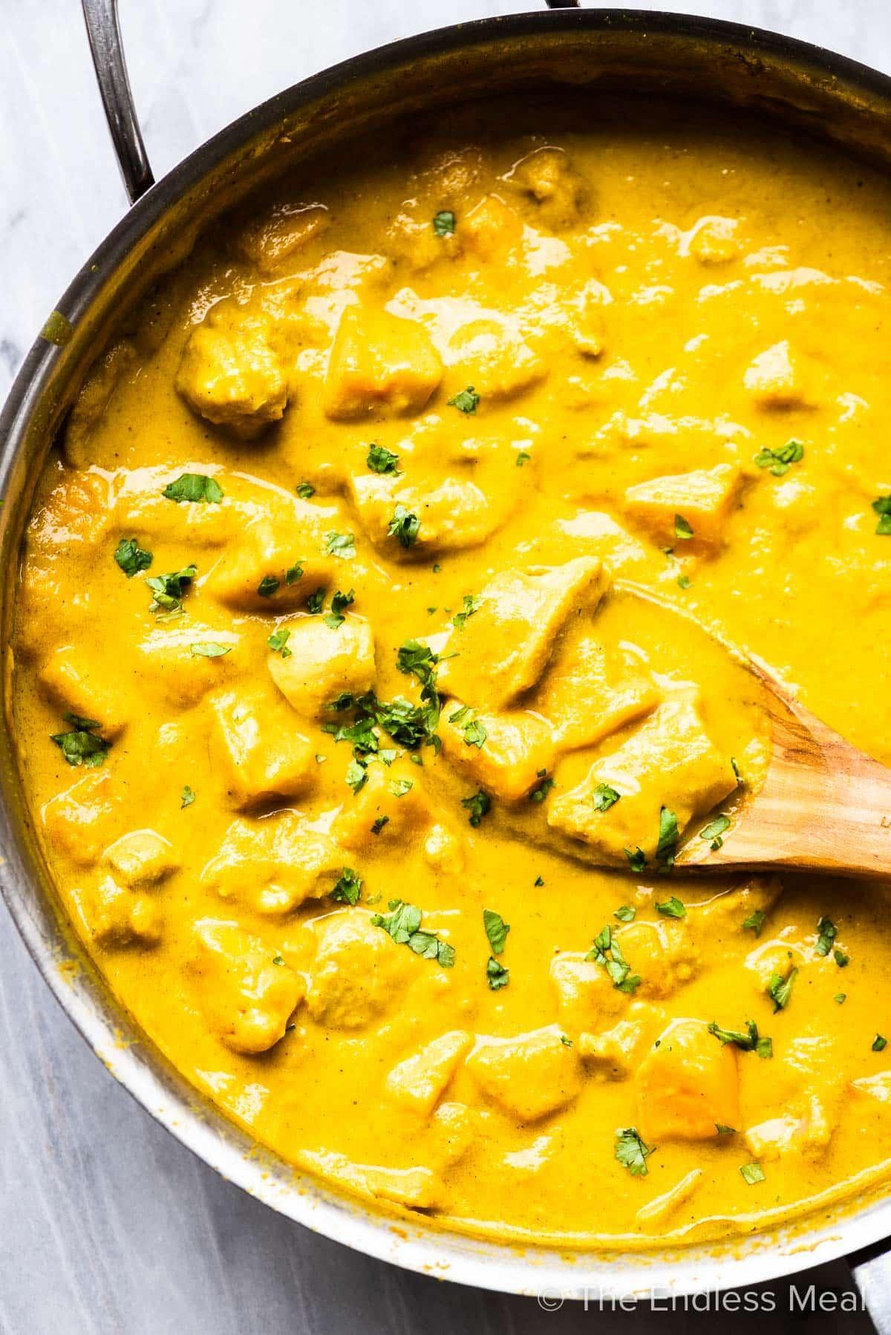chicken: (0, 76, 891, 1335)
